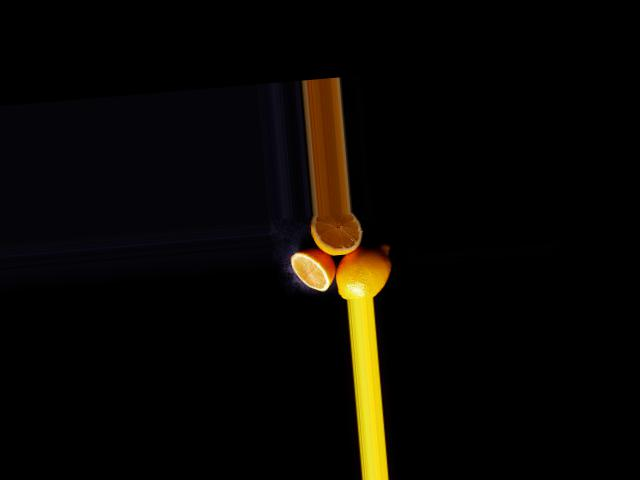lemon: (329, 243, 398, 299)
